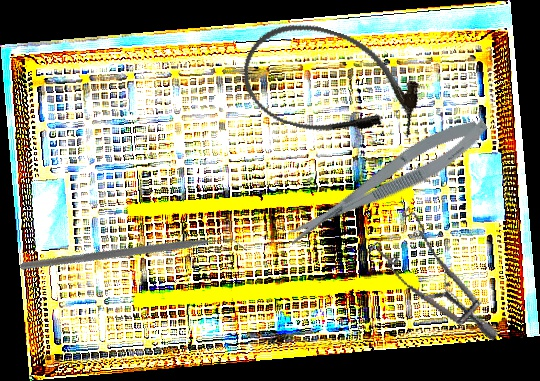Cannula: (230, 8, 433, 160)
Chopper: (18, 147, 249, 370)
Micro Scissor: (277, 107, 496, 253)
Speculum: (352, 198, 528, 342)
